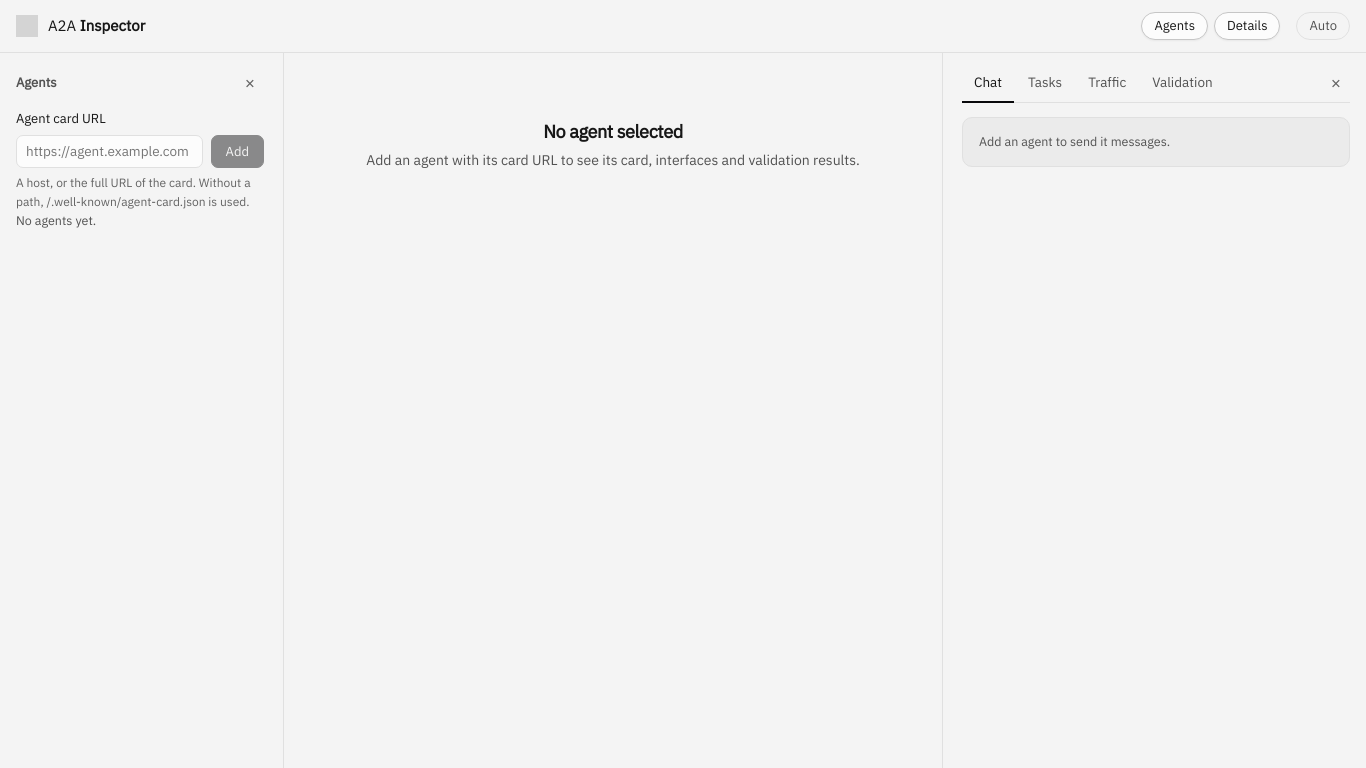
App › shows errors from the inspector and removes agents
In the field labelled "Agent card URL": (109, 152) [16,135,203,168], type "ftp://agent.example.com"
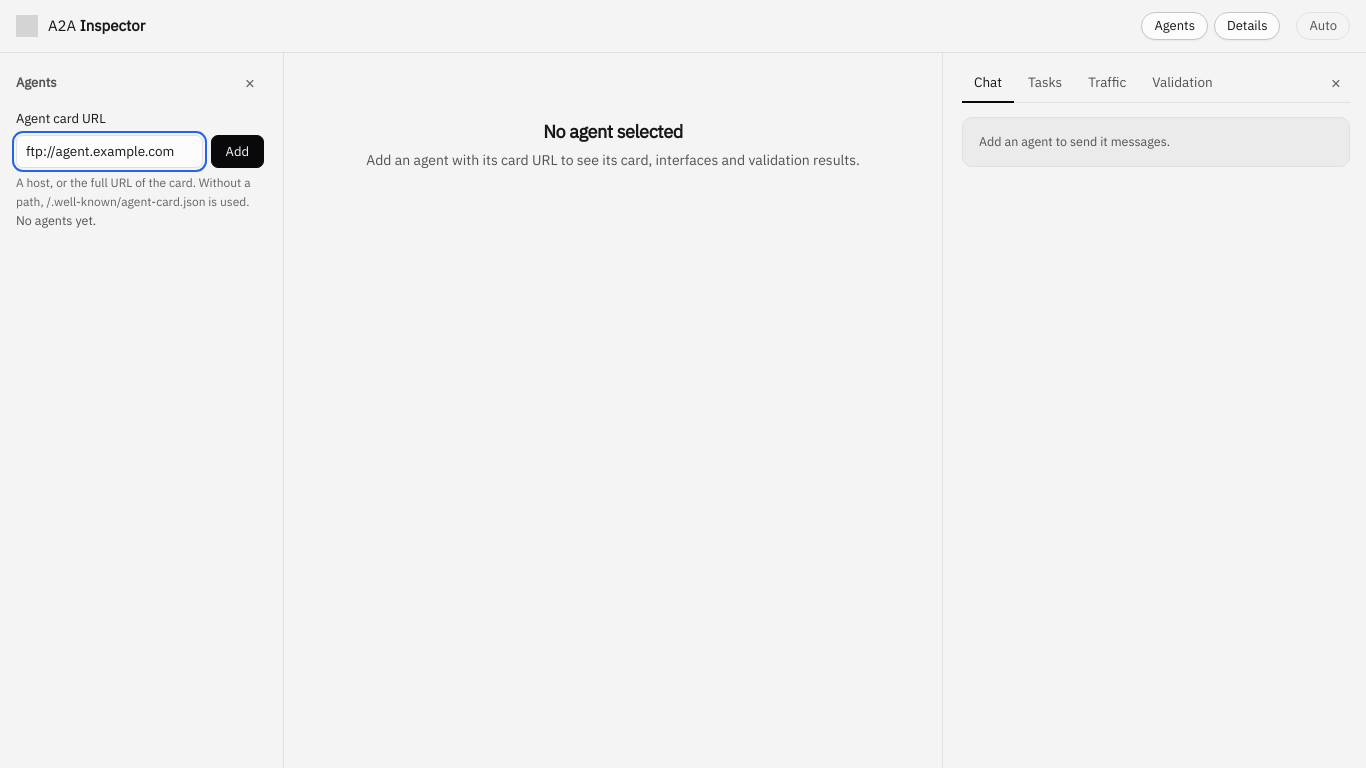
Click the button "Add": (237, 152) [211,135,264,168]
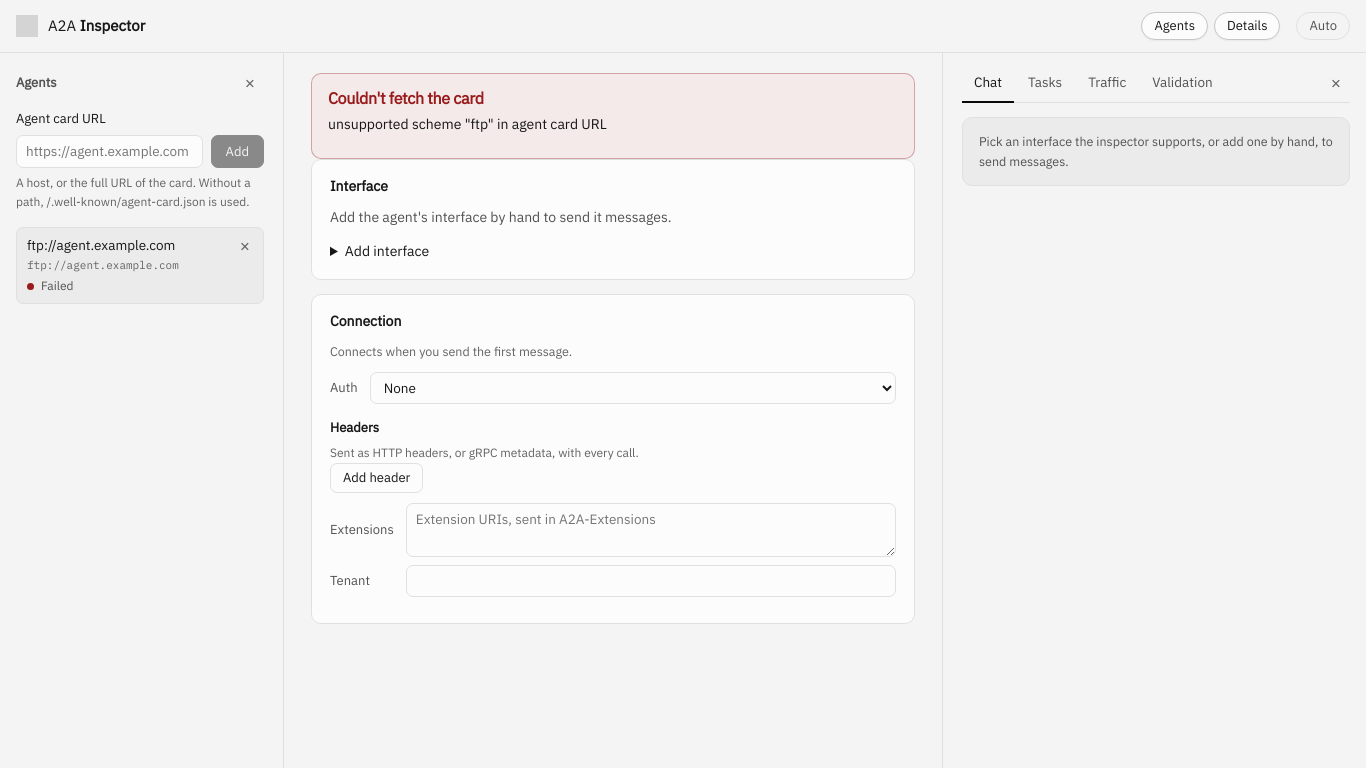
Now the text "unsupported scheme \"ftp\" in agent card URL" is shown, box [328,115,607,133]
Click the button named "Remove ftp://agent.example.com": (245, 246) [231,232,259,260]
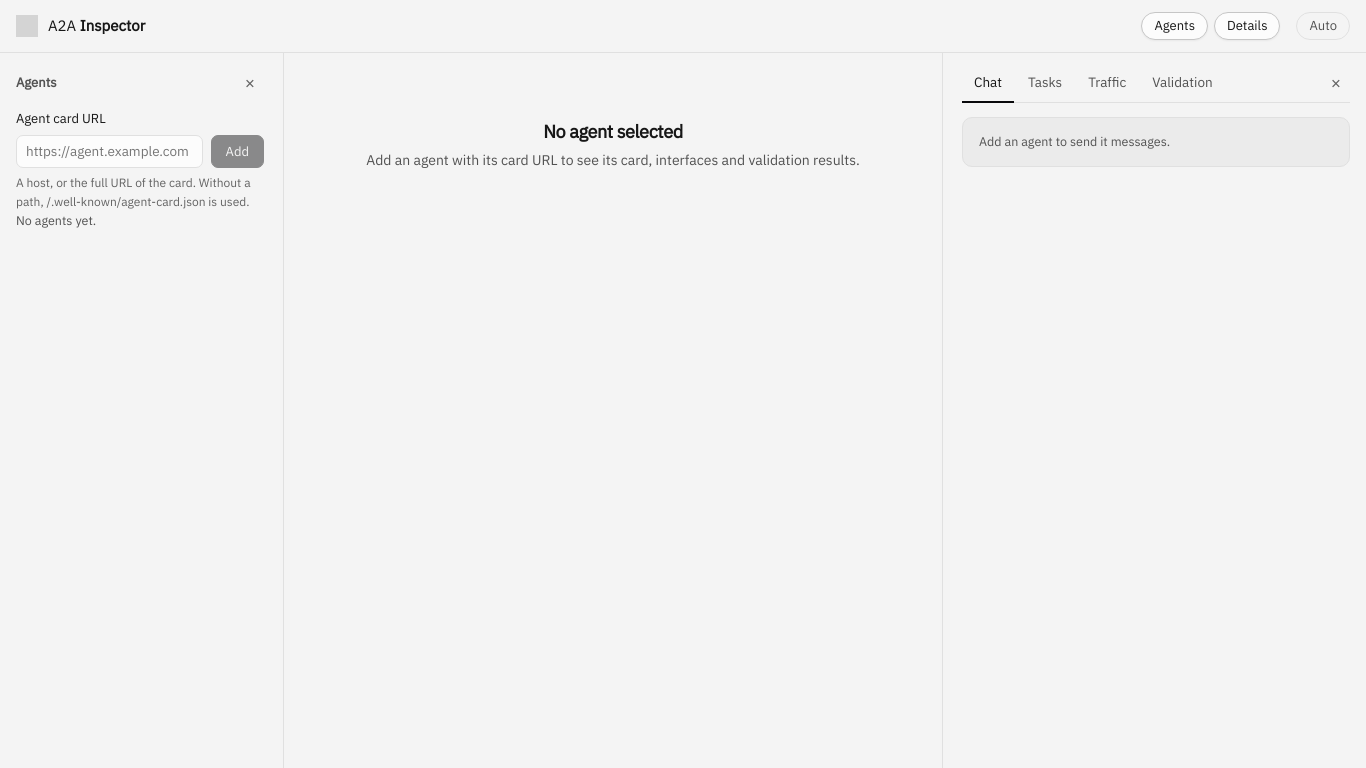
Now the text "No agents yet." is shown, box [16,212,96,228]
Now the heading "No agent selected" is shown, box [543,120,683,143]
